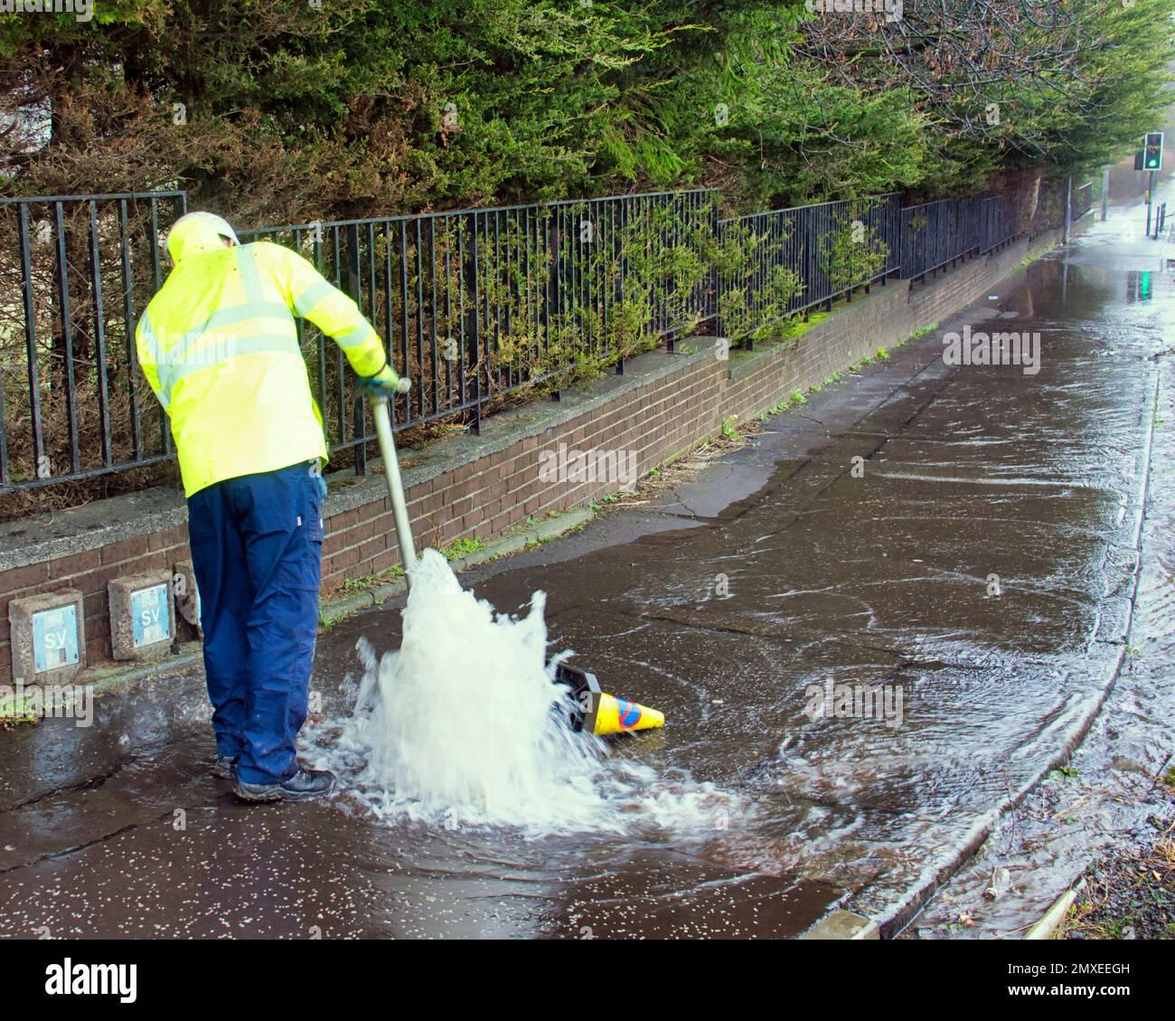water_leak: (343, 384, 639, 832)
